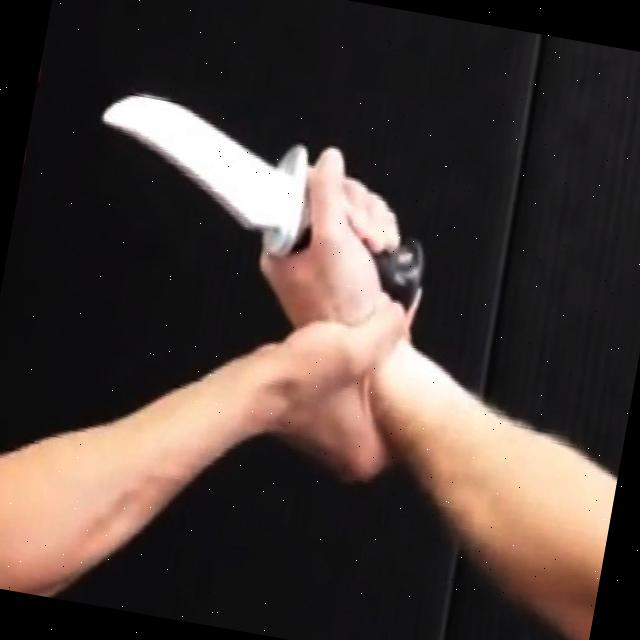suspicion: (16, 75, 640, 640), (80, 81, 322, 263), (373, 229, 430, 306)
